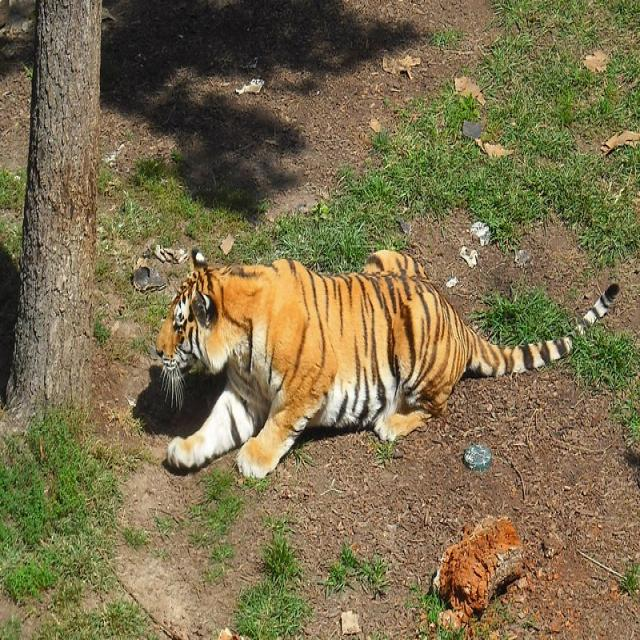Tiger: (142, 240, 554, 505)
